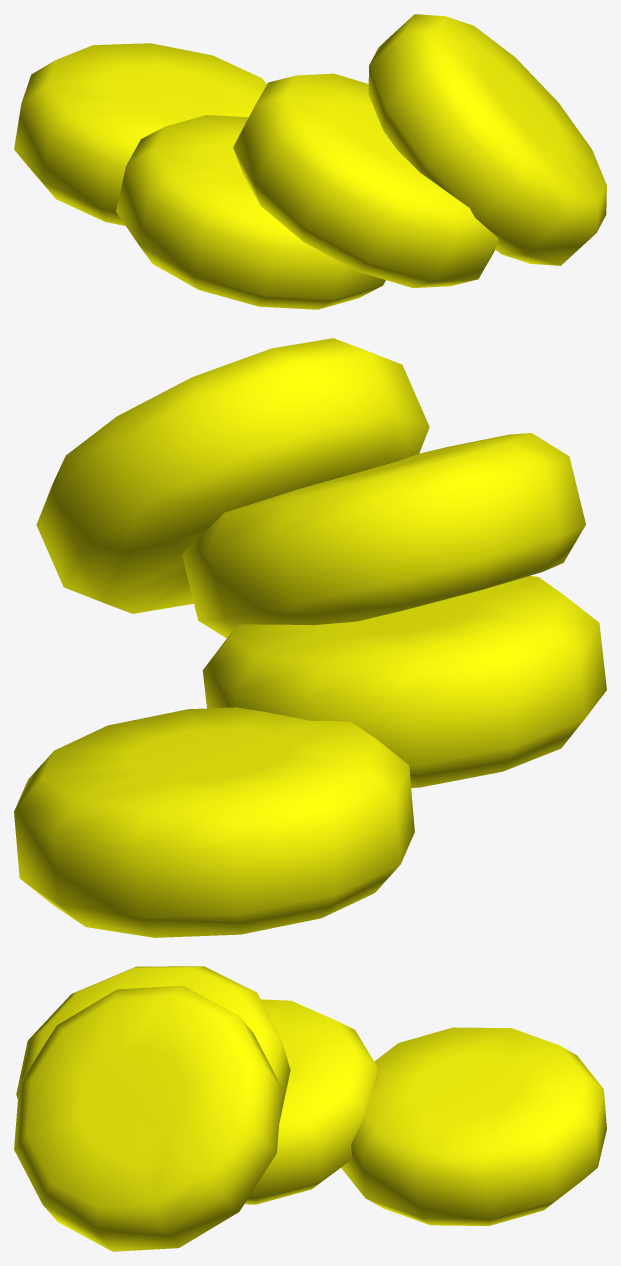
The model's file is kaykit-food-ingredient-carrot-pieces.glb.
The picture shows the model from 3 angles, top to bottom: view 1: azimuth 30°, elevation 25°; view 2: azimuth 150°, elevation 25°; view 3: azimuth 270°, elevation 25°; orthographic projection. The views are drawn at different scales.
Visible parts, largest first — view 1: food_ingredient_carrot_pieces; view 2: food_ingredient_carrot_pieces; view 3: food_ingredient_carrot_pieces.
Part boxes in pixels (x1,y1,x2,y2): food_ingredient_carrot_pieces: [14, 14, 606, 309]; food_ingredient_carrot_pieces: [14, 338, 606, 937]; food_ingredient_carrot_pieces: [14, 966, 606, 1251].
Bounding box in the file's own units: 0.543 × 0.3226 × 0.7191.
